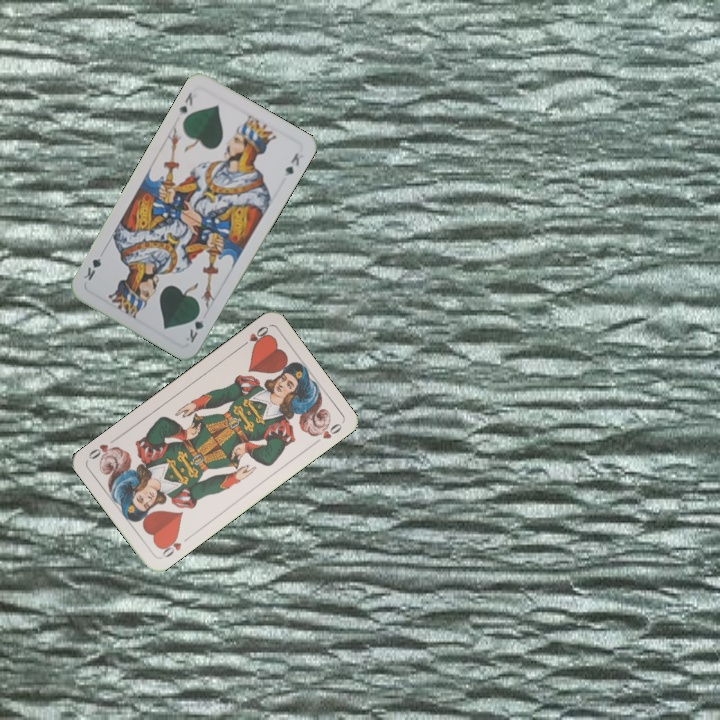GK: (182, 307, 206, 346), (175, 88, 196, 116)
HO: (156, 532, 192, 560), (236, 322, 272, 350)
